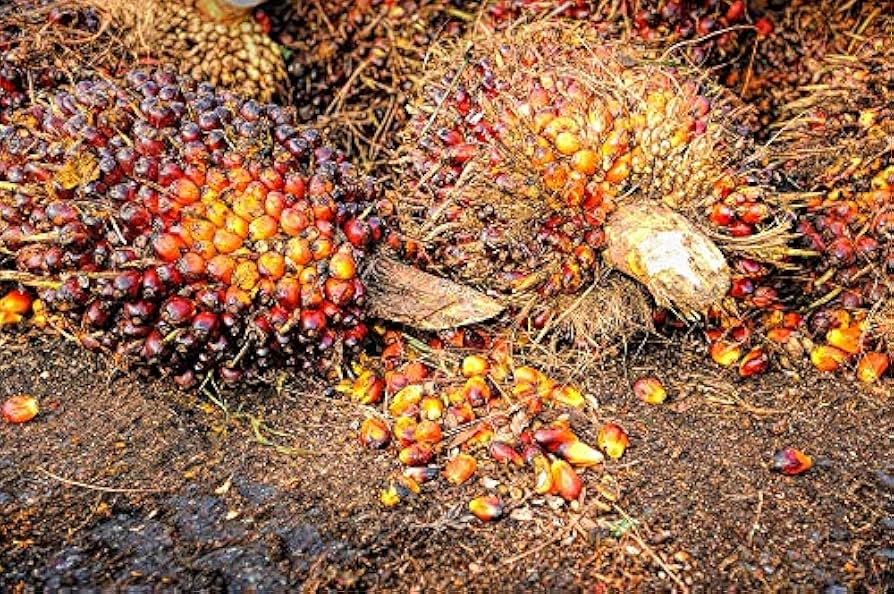PalmRipe: (406, 48, 795, 309), (14, 103, 374, 374)
